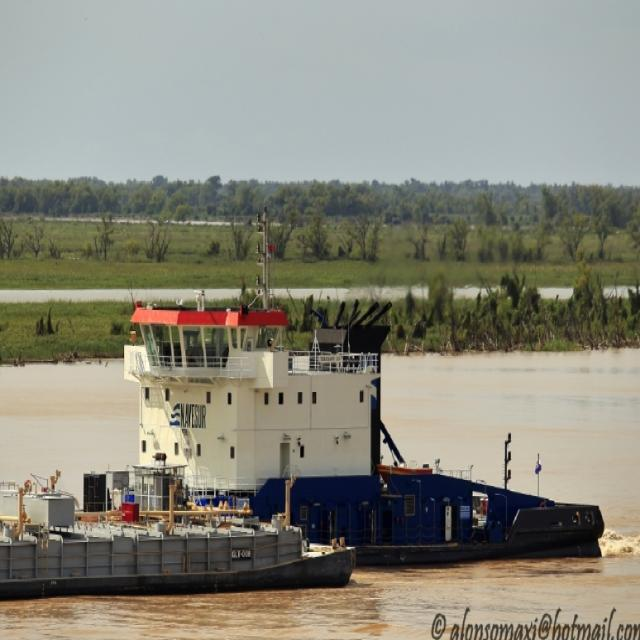tugboat: (80, 202, 613, 583)
